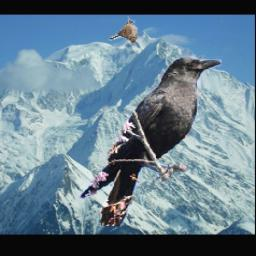Crow: (80, 54, 223, 226)
Sparrow: (108, 16, 138, 44)
